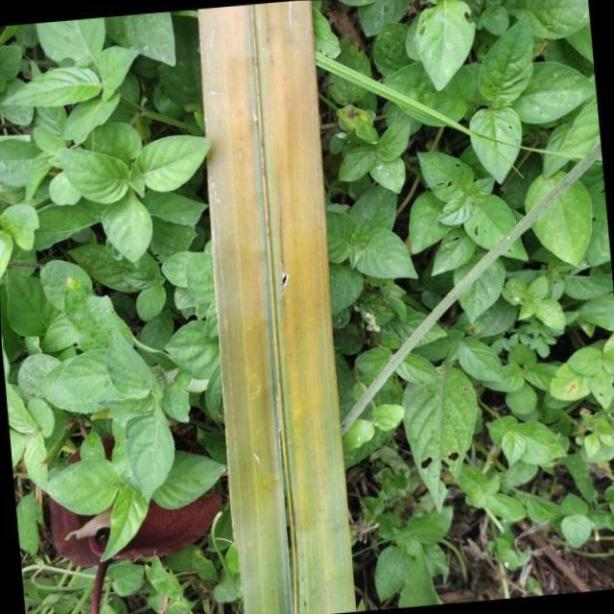Megnesium: (198, 6, 353, 614)
